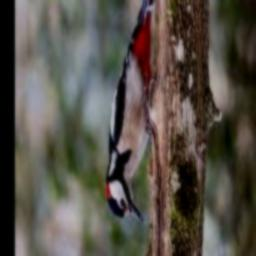Woodpecker: (106, 0, 157, 225)
